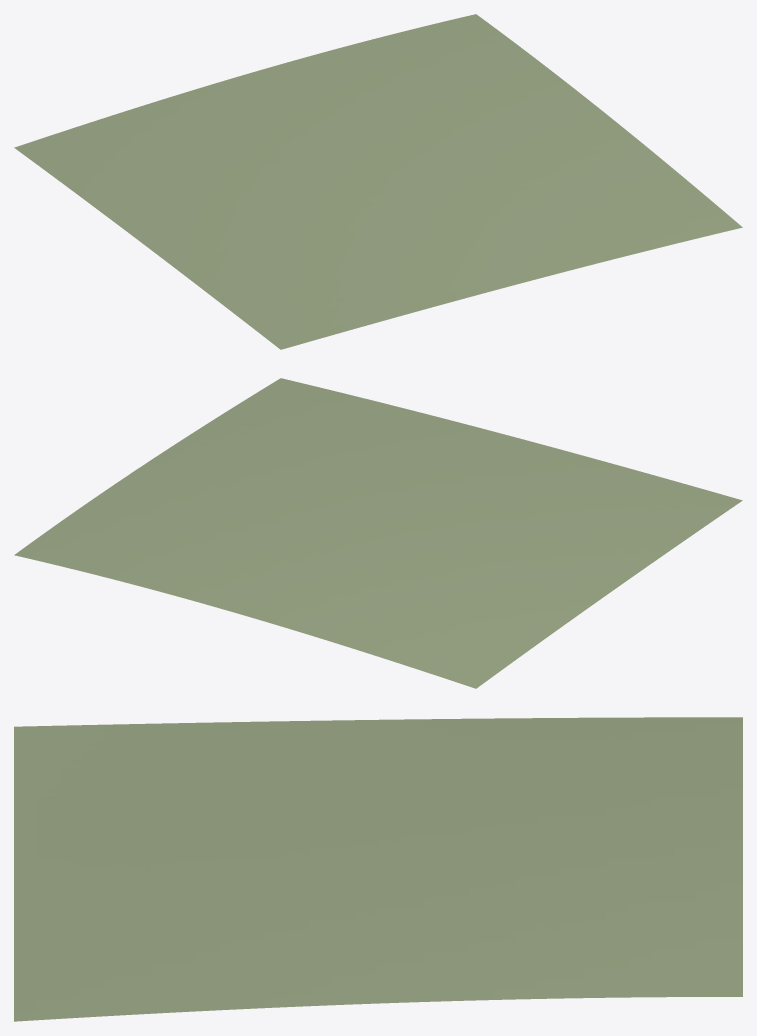
File: canyon-5-0.glb
3 renders of one model, top to bottom at view 1: azimuth 30°, elevation 25°; view 2: azimuth 150°, elevation 25°; view 3: azimuth 270°, elevation 25°, orthographic. The views are drawn at different scales.
Visible parts, largest first — view 1: canyon-5-0; view 2: canyon-5-0; view 3: canyon-5-0.
Boxes of the visible parts, left/top/right/bottom form: canyon-5-0: left=14, top=14, right=742, bottom=349; canyon-5-0: left=14, top=378, right=742, bottom=688; canyon-5-0: left=14, top=717, right=742, bottom=1021.
Bounding box in the file's own units: 128 × 7.44 × 128.
